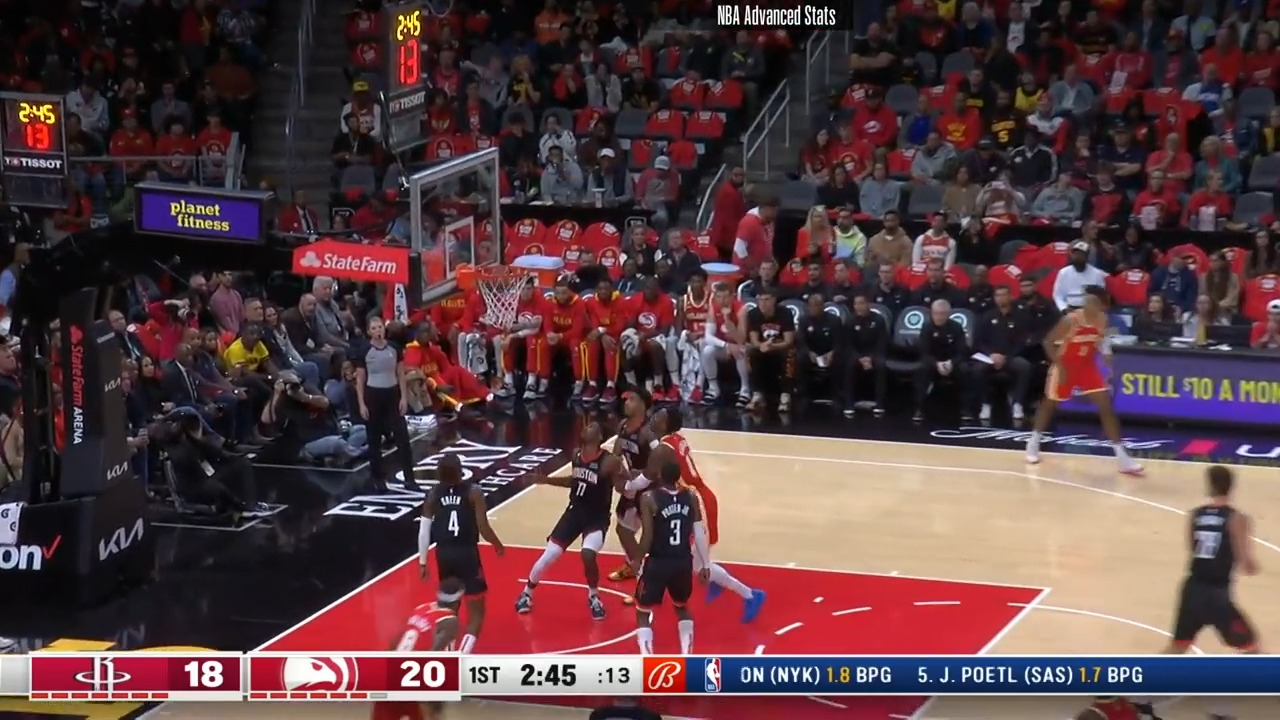net: (454, 258, 543, 332)
player: (656, 400, 770, 625), (513, 418, 631, 626), (1029, 287, 1141, 479), (418, 451, 514, 653), (625, 444, 712, 654), (606, 385, 656, 588), (391, 572, 467, 652)
referee: (1153, 468, 1269, 657), (359, 321, 430, 495)
